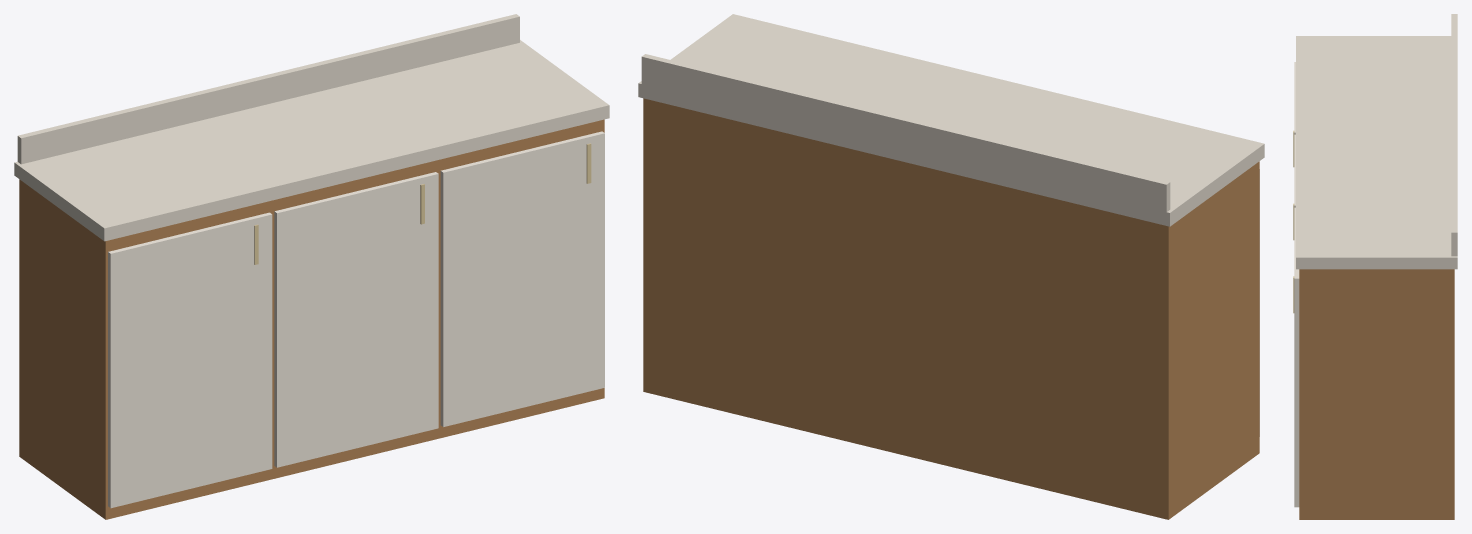
The model's file is bancada_160.obj.
3 views of the same model, side by side, from view 1: azimuth 30°, elevation 25°; view 2: azimuth 150°, elevation 25°; view 3: azimuth 270°, elevation 25° (orthographic). The views are drawn at different scales.
Visible parts, largest first — view 1: bancada_160; view 2: bancada_160; view 3: bancada_160.
Boxes of the visible parts, x1=… form: bancada_160: x1=14, y1=14, x2=609, y2=519; bancada_160: x1=638, y1=14, x2=1264, y2=519; bancada_160: x1=1293, y1=14, x2=1457, y2=519.
Bounding box in the file's own units: 162 × 98 × 50.9.
